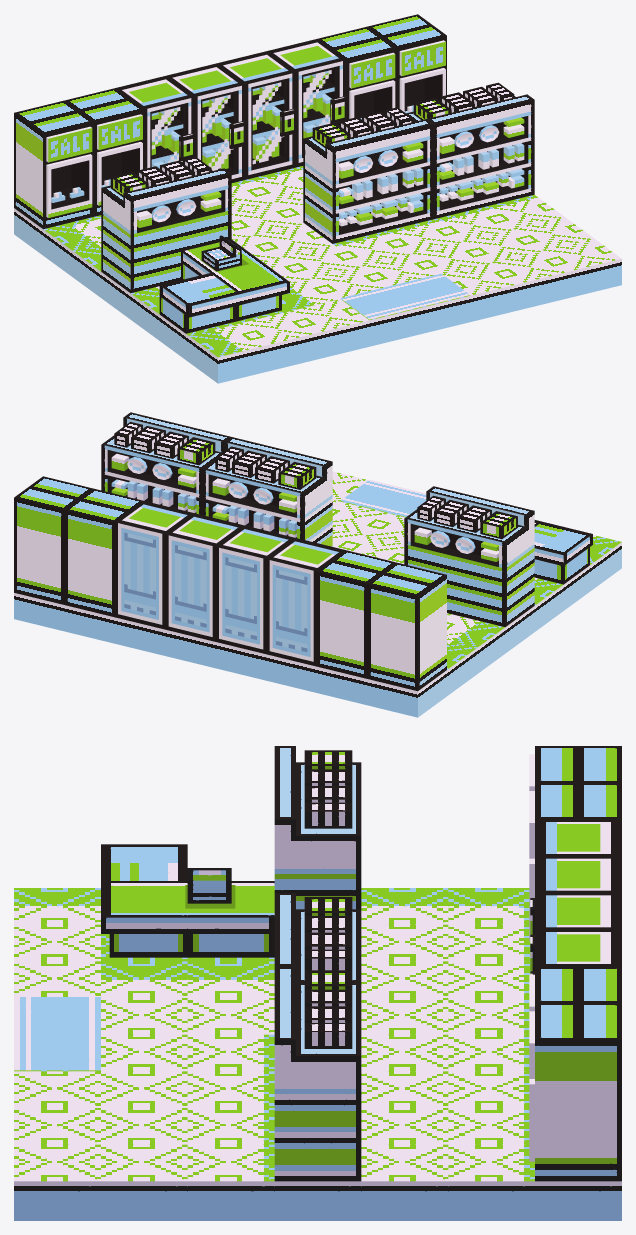
3 views of the same model, one above another, from view 1: azimuth 30°, elevation 25°; view 2: azimuth 150°, elevation 25°; view 3: azimuth 270°, elevation 25° (orthographic). The views are drawn at different scales.
Visible parts, largest first — view 1: Floor, Shelf (×2), Sale_Shelf (×4), Balcony_Shelf, Fridge_Door (×4), Fridge (×4), Balcony, Sale_Shelf_Inside (×4), Sale_Banner (×4), Mat, pCube47 (×3), Register; view 2: Sale_Shelf (×4), Fridge (×4), Floor, Shelf (×2), Balcony_Shelf, Balcony, pCube47 (×3), pCube48 (×3), Mat, pCube49 (×3), pCube50 (×3); view 3: Floor, Sale_Shelf (×4), Shelf (×2), Balcony, Fridge (×4), Balcony_Shelf, Mat, pCube50 (×3), pCube47 (×3), pCube49 (×3), pCube48 (×3), Register.
Boxes of the visible parts, left/top/right/bottom form: Floor: left=14, top=166, right=621, bottom=383; Shelf (×2): left=303, top=94, right=534, bottom=243; Sale_Shelf (×4): left=14, top=14, right=446, bottom=229; Balcony_Shelf: left=101, top=168, right=231, bottom=293; Fridge_Door (×4): left=141, top=57, right=345, bottom=182; Fridge (×4): left=115, top=39, right=341, bottom=170; Balcony: left=159, top=239, right=289, bottom=333; Sale_Shelf_Inside (×4): left=46, top=68, right=445, bottom=217; Sale_Banner (×4): left=46, top=40, right=445, bottom=162; Mat: left=341, top=273, right=469, bottom=319; pCube47 (×3): left=110, top=98, right=451, bottom=197; Register: left=201, top=235, right=241, bottom=271; Sale_Shelf (×4): left=14, top=476, right=446, bottom=691; Fridge (×4): left=115, top=503, right=341, bottom=666; Floor: left=14, top=471, right=621, bottom=717; Shelf (×2): left=101, top=412, right=332, bottom=546; Balcony_Shelf: left=404, top=486, right=534, bottom=627; Balcony: left=534, top=520, right=592, bottom=584; pCube47 (×3): left=177, top=437, right=517, bottom=539; pCube48 (×3): left=154, top=431, right=491, bottom=532; Mat: left=341, top=479, right=426, bottom=516; pCube49 (×3): left=131, top=426, right=468, bottom=527; pCube50 (×3): left=114, top=422, right=445, bottom=521; Floor: left=14, top=888, right=621, bottom=1220; Sale_Shelf (×4): left=535, top=746, right=621, bottom=1181; Shelf (×2): left=274, top=893, right=361, bottom=1181; Balcony: left=101, top=844, right=274, bottom=957; Fridge (×4): left=546, top=819, right=621, bottom=966; Balcony_Shelf: left=274, top=746, right=361, bottom=909; Mat: left=14, top=997, right=100, bottom=1070; pCube50 (×3): left=304, top=802, right=352, bottom=1048; pCube47 (×3): left=304, top=750, right=352, bottom=989; pCube49 (×3): left=304, top=786, right=352, bottom=1022; pCube48 (×3): left=304, top=769, right=352, bottom=1006; Register: left=187, top=868, right=231, bottom=903.
Bounding box in the file's own units: 8 × 2.31 × 7.
Materials: 3 (3 with a texture image).
